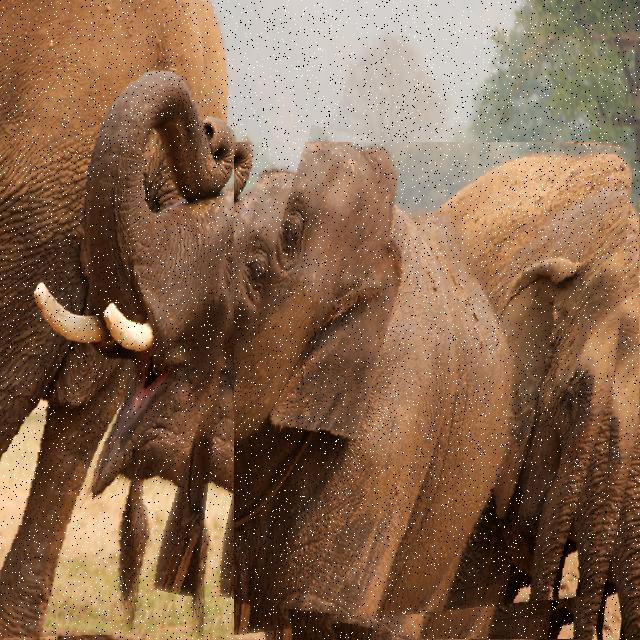elephant: (234, 142, 640, 640), (0, 0, 263, 640)
